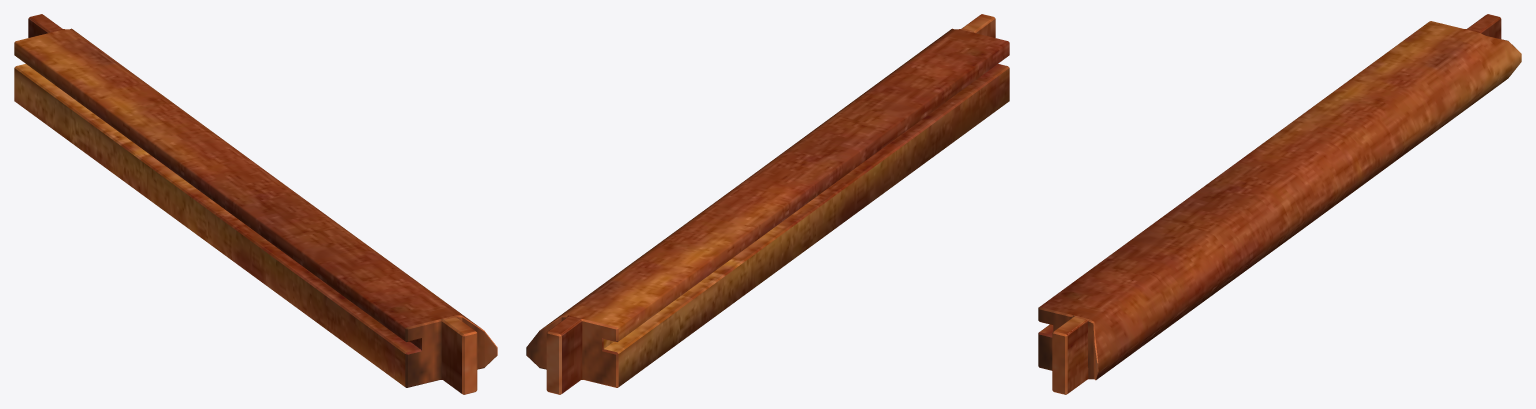
The model's file is SJ_J_motou_1_01.FBX.
The picture shows the model from 3 angles, left to right: view 1: azimuth 30°, elevation 25°; view 2: azimuth 150°, elevation 25°; view 3: azimuth 330°, elevation 25°; orthographic projection.
Parts seen in each view (by area): view 1: SJ_J_motou_1_01; view 2: SJ_J_motou_1_01; view 3: SJ_J_motou_1_01.
Boxes of the visible parts, x1,y1,x2,y2 form: SJ_J_motou_1_01: (14,14,497,394); SJ_J_motou_1_01: (526,14,1009,394); SJ_J_motou_1_01: (1038,14,1521,394).
Bounding box in the file's own units: 3.94 × 3 × 38.93.
2 materials, 2 textured.
